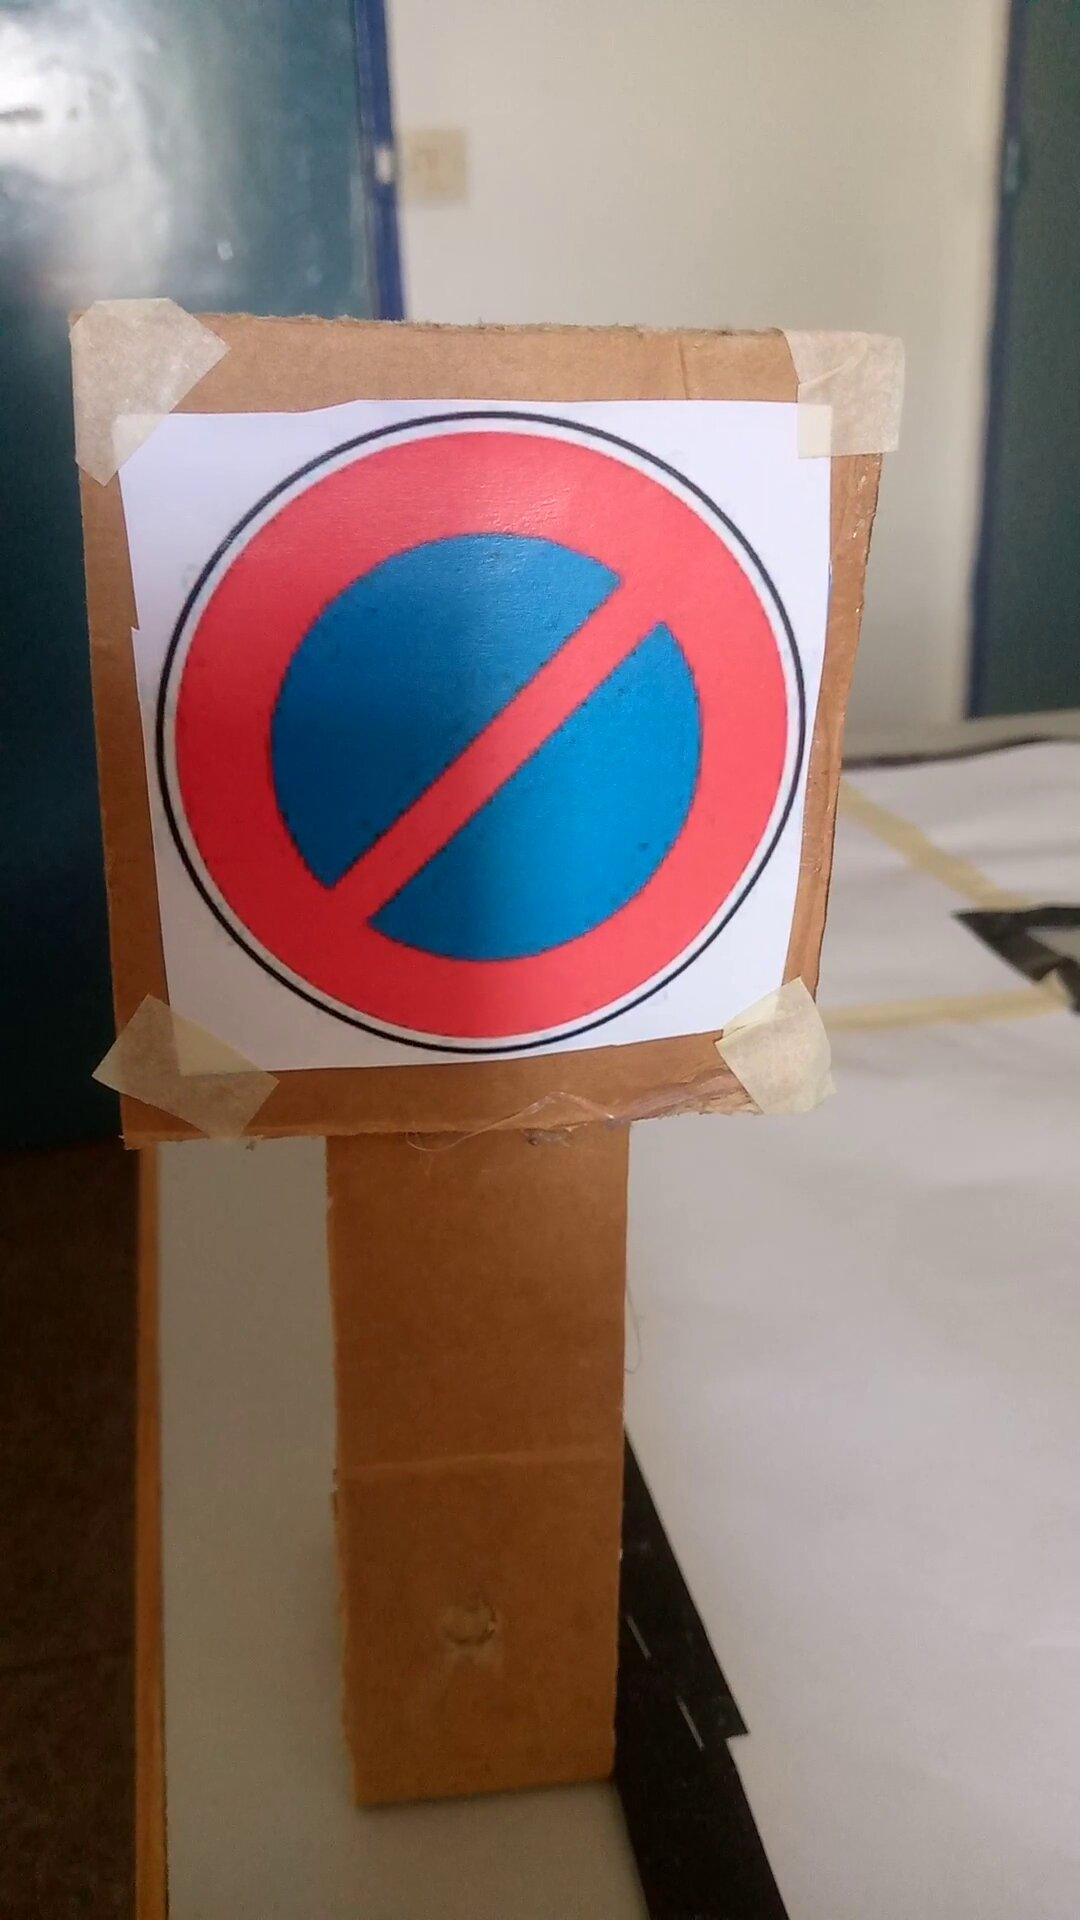panel110: (109, 409, 824, 1065)
